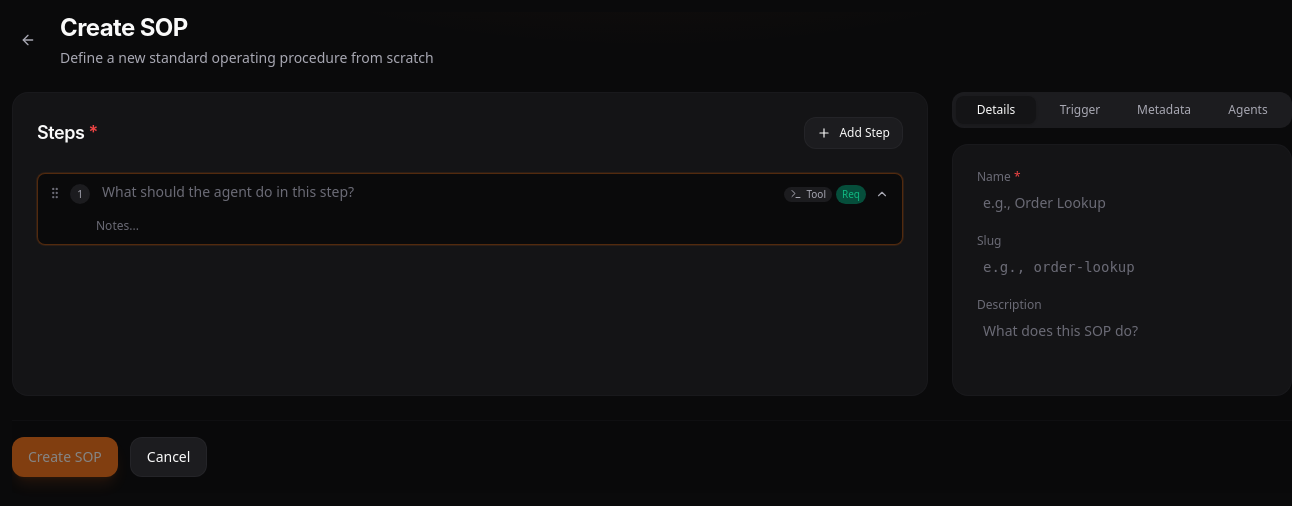
NewSopPage › form submission › enables submit when name and step instruction are filled
The width and height of the screenshot is (1292, 506).
Type "Test SOP" into the field with placeholder "e.g., Order Lookup". click: (1122, 203)
box: [977,189,1267,217]
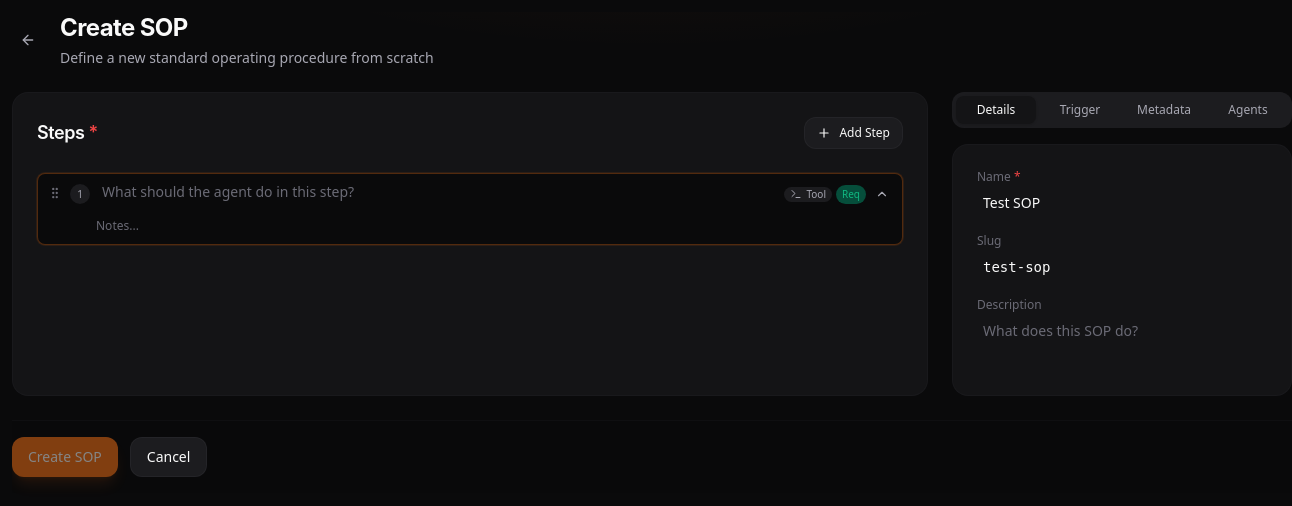
Type "Do something" into the text box with placeholder "What should the agent do in this step?". click: (437, 192)
box: [96,180,778,204]
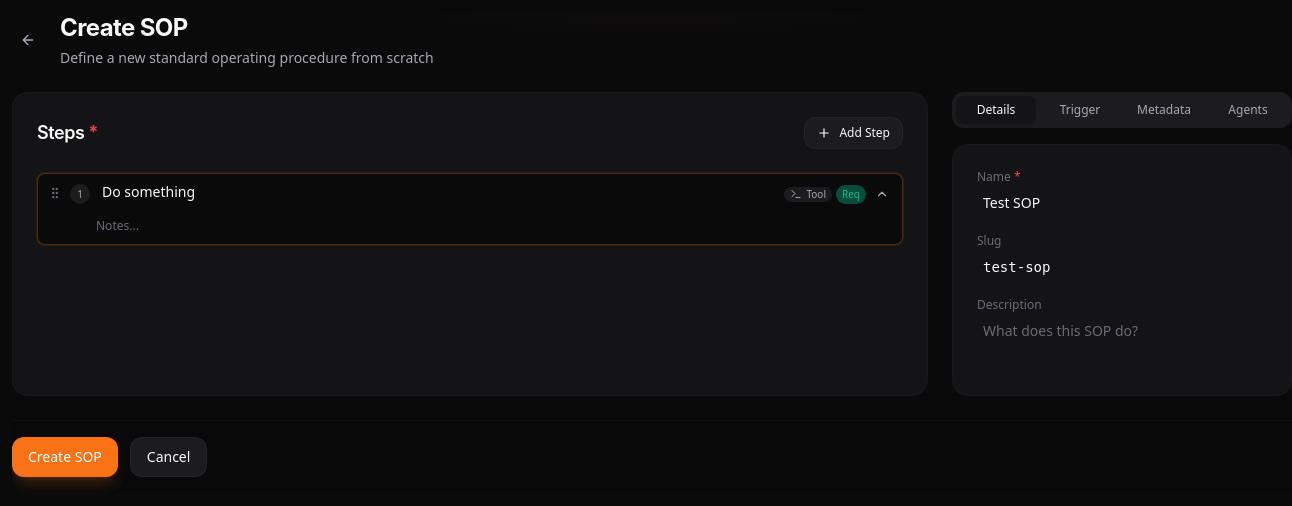
Expected: the button "Create SOP" is enabled, [12,437,118,477]
